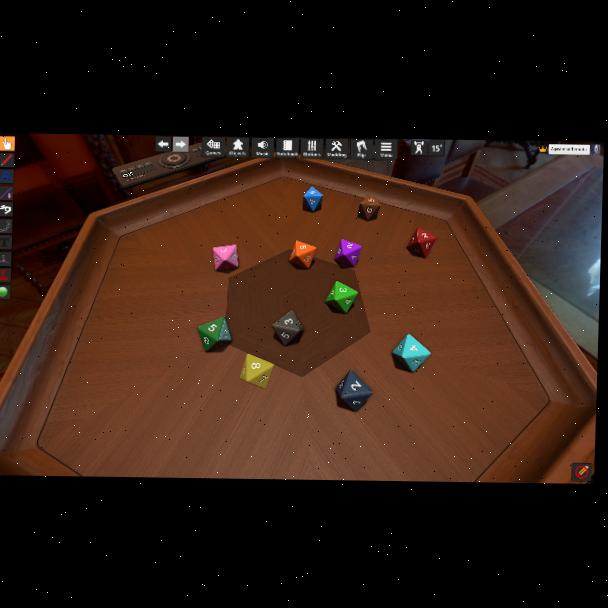d8: (337, 370, 374, 411), (395, 335, 431, 372), (196, 317, 230, 352), (271, 311, 301, 346), (324, 282, 356, 314), (241, 353, 273, 385), (406, 227, 436, 258), (334, 239, 361, 268), (289, 240, 315, 269), (213, 244, 238, 273), (359, 194, 381, 221), (303, 187, 323, 213)
